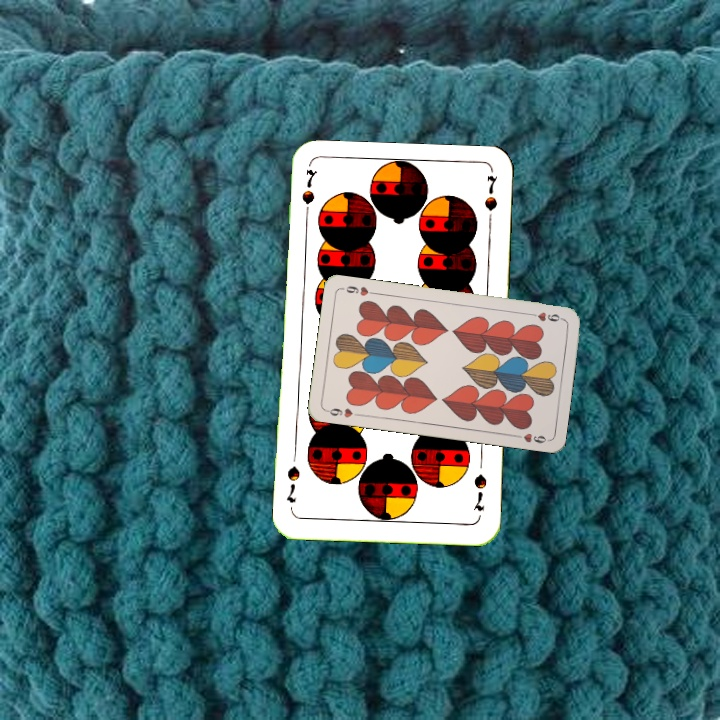H9: (322, 404, 363, 420), (525, 308, 566, 324)
S7: (298, 165, 319, 223), (469, 470, 490, 514)
